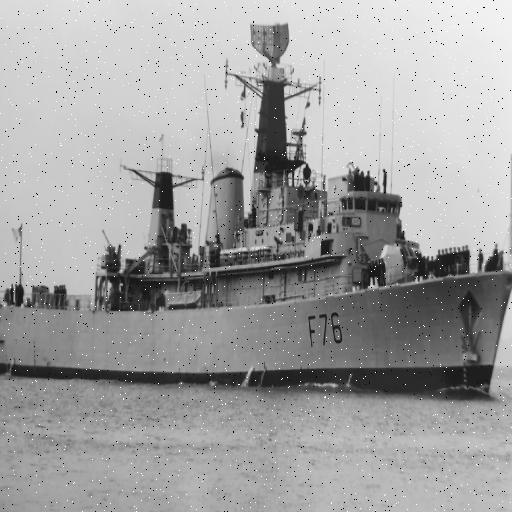Fragata: (1, 17, 512, 407)
